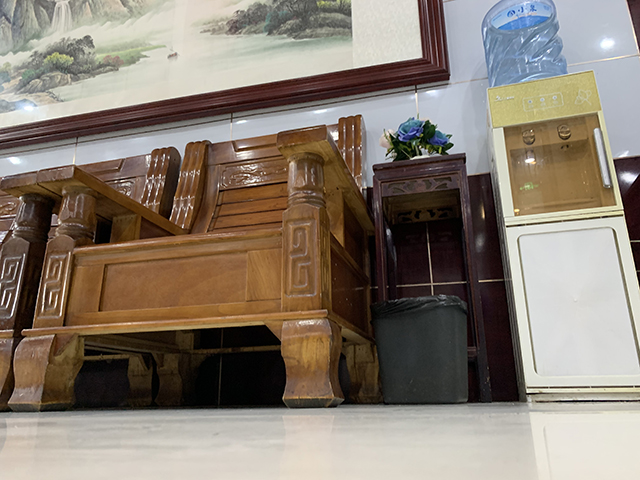stool: (10, 114, 386, 416), (1, 144, 177, 411)
trashcan: (369, 292, 472, 407)
